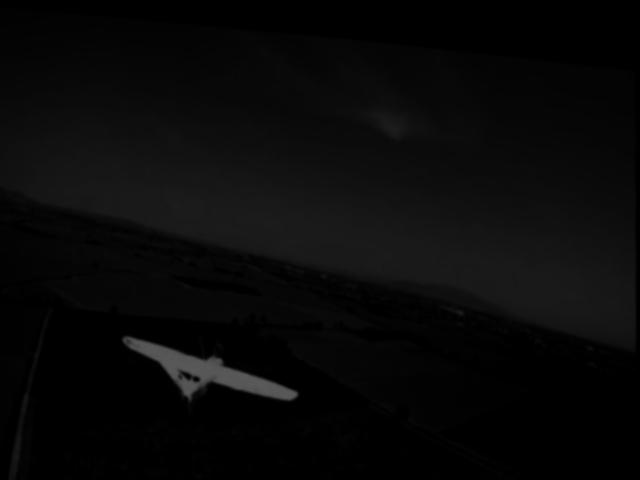hedef: (110, 308, 315, 428)
